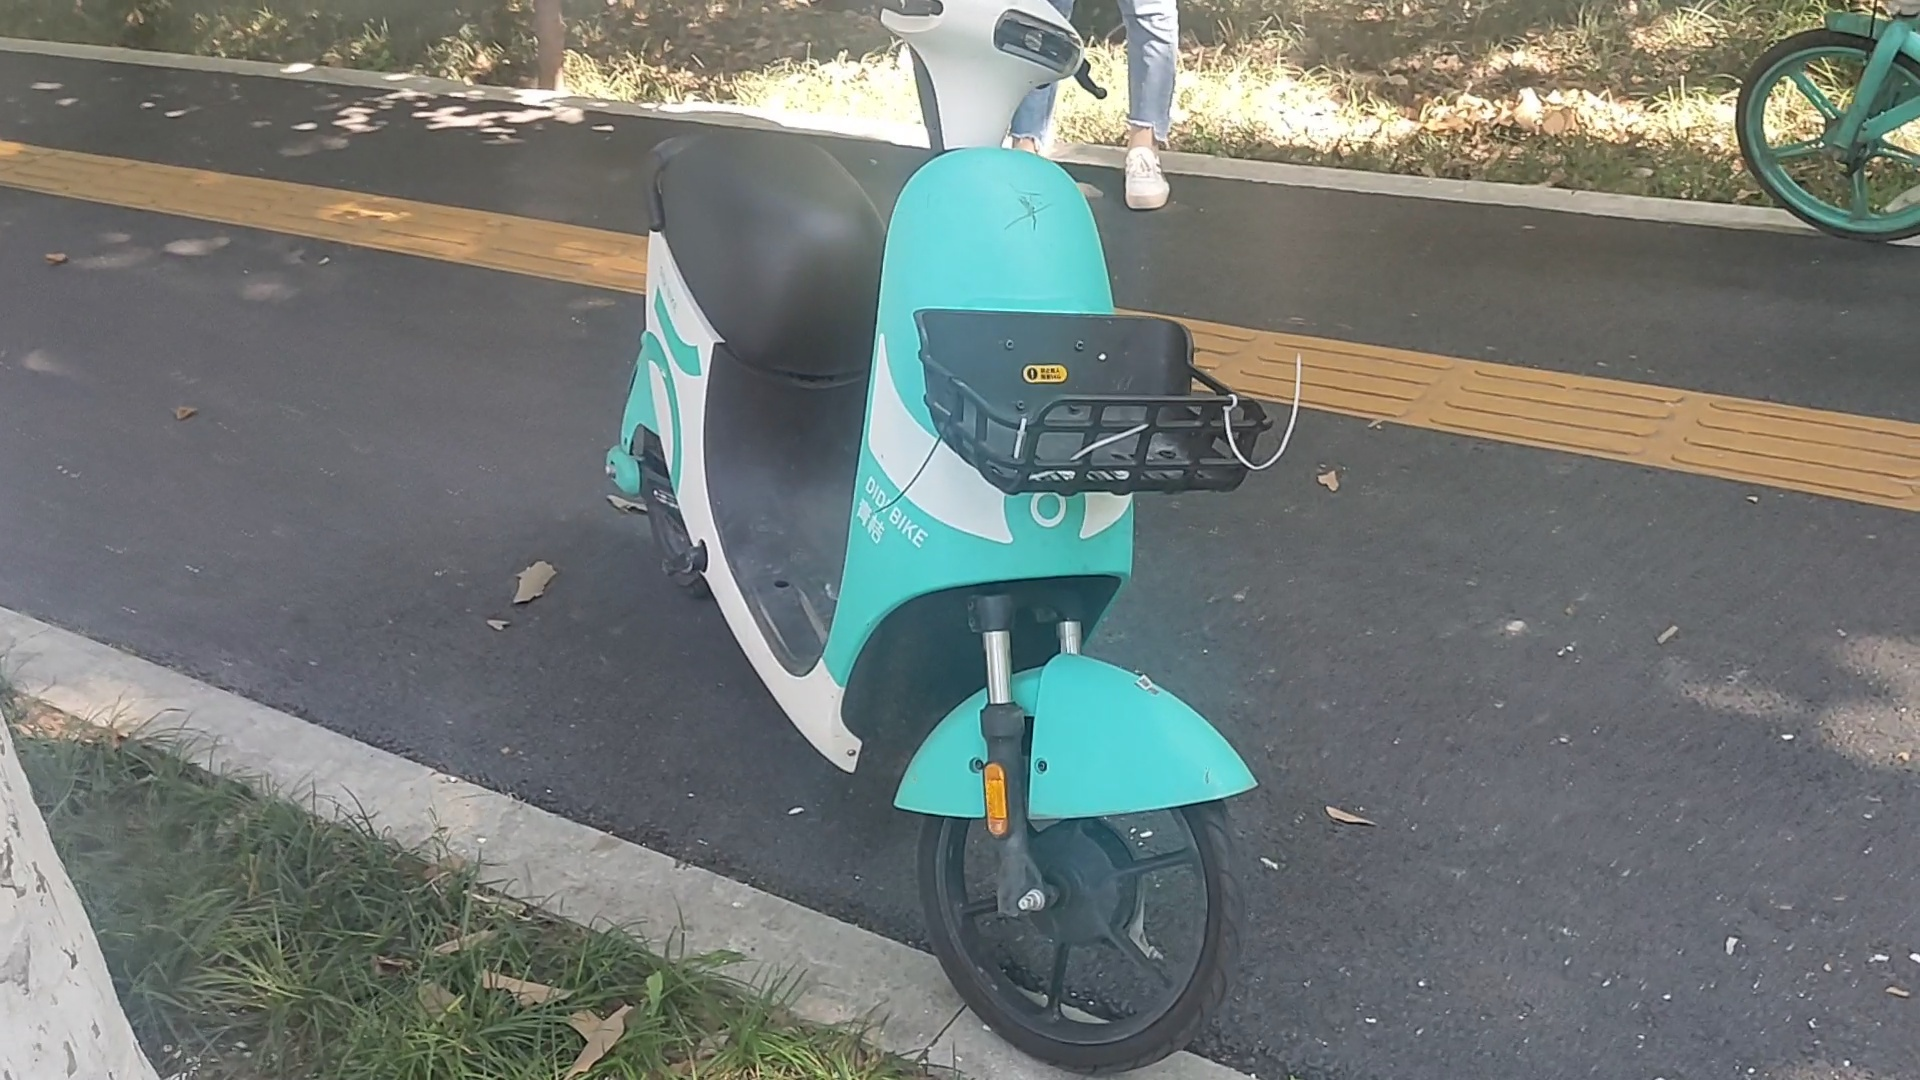non-vehicle: (603, 0, 1276, 1069), (1737, 1, 1915, 247)
